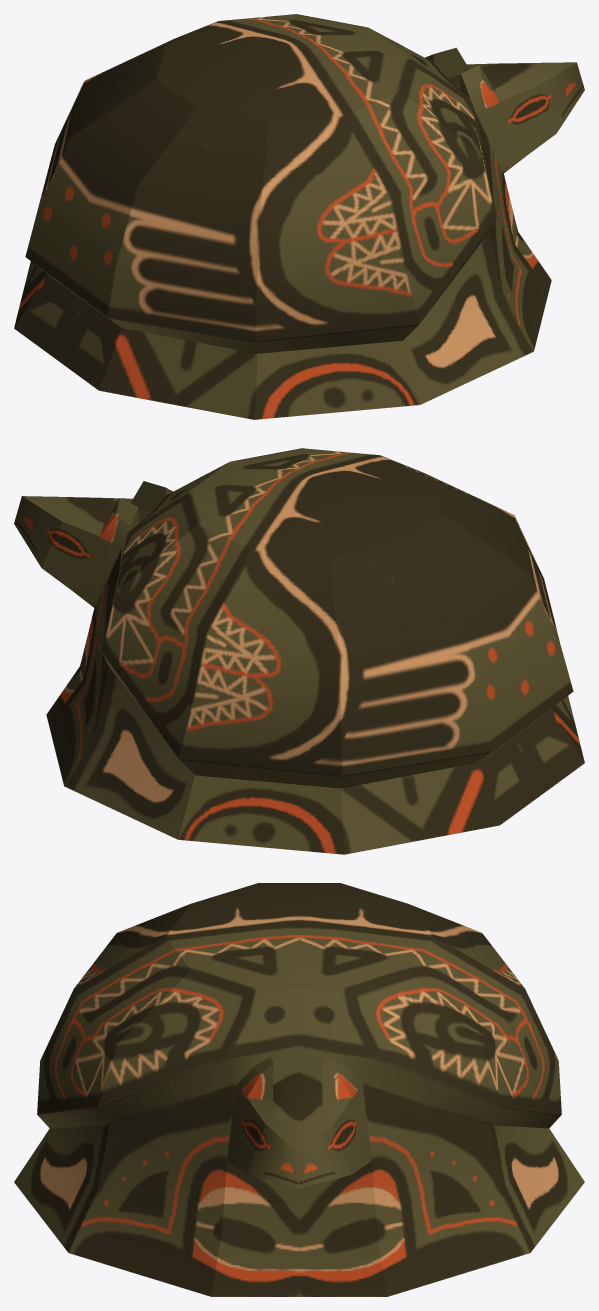
The model's file is patternedHat_turtleTexture.glb.
3 renders of one model, top to bottom at view 1: azimuth 30°, elevation 25°; view 2: azimuth 150°, elevation 25°; view 3: azimuth 270°, elevation 25°, orthographic. The views are drawn at different scales.
Parts seen in each view (by area): view 1: patterned_hat_turtle; view 2: patterned_hat_turtle; view 3: patterned_hat_turtle.
Boxes of the visible parts, <box> form: patterned_hat_turtle: <box>14,14,584,419</box>; patterned_hat_turtle: <box>14,448,584,854</box>; patterned_hat_turtle: <box>14,883,584,1296</box>.
Size of the model in its own units: 7.37 by 3.47 by 6.65.
Materials: 1 (1 with a texture image).
